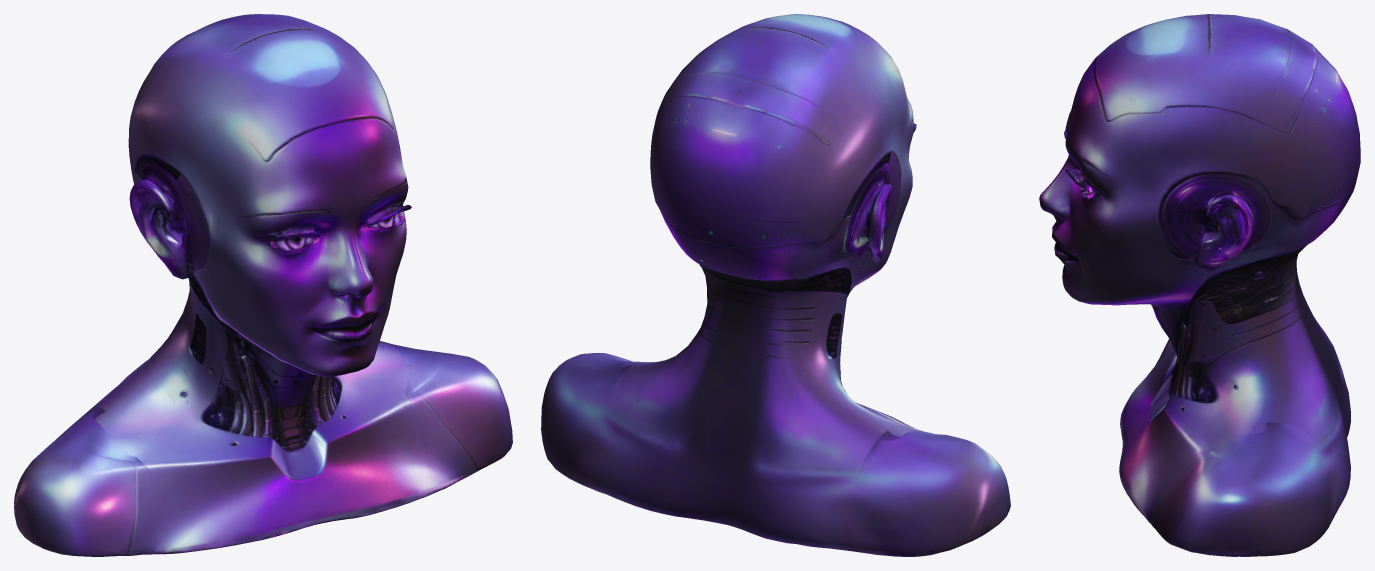
File: avtar.glb
3 views of the same model, side by side, from view 1: azimuth 30°, elevation 25°; view 2: azimuth 150°, elevation 25°; view 3: azimuth 270°, elevation 25° (orthographic). The views are drawn at different scales.
Size of the model in its own units: 2.01 by 1.93 by 1.28.
1 material, 1 textured.
